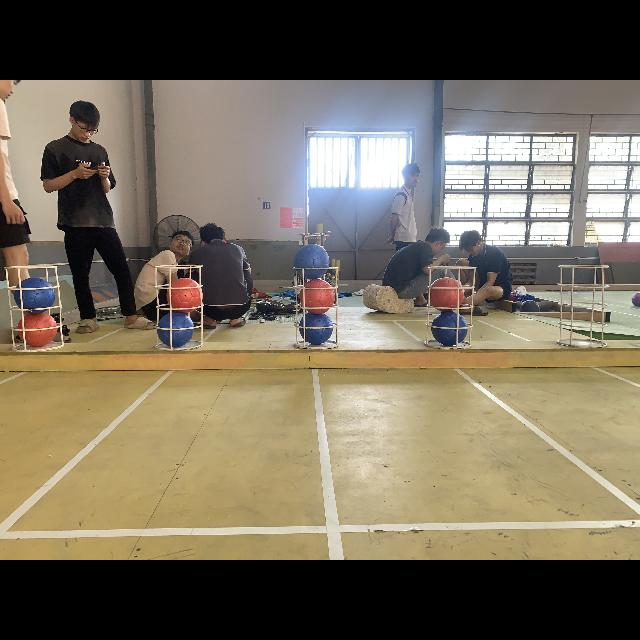B: (15, 278, 56, 314), (156, 313, 194, 347), (294, 244, 330, 278), (299, 312, 333, 346), (432, 312, 466, 346)
R: (18, 313, 58, 349), (167, 278, 203, 312), (299, 280, 335, 314), (430, 277, 464, 311)
